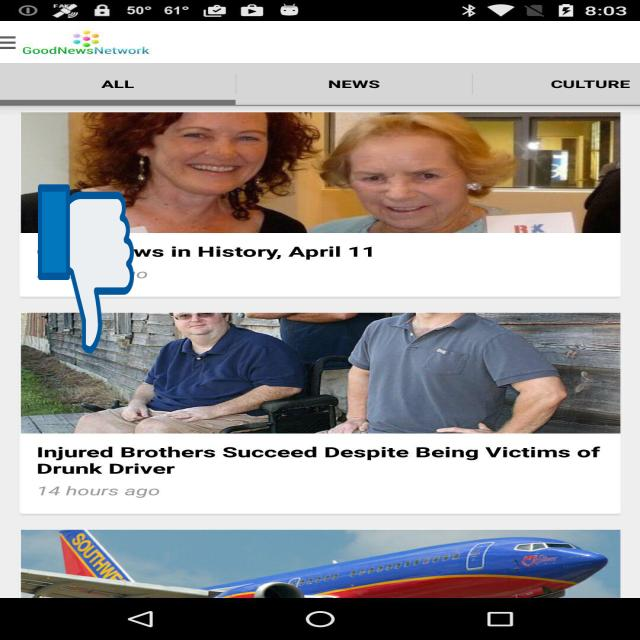obstruction: (38, 181, 134, 357)
